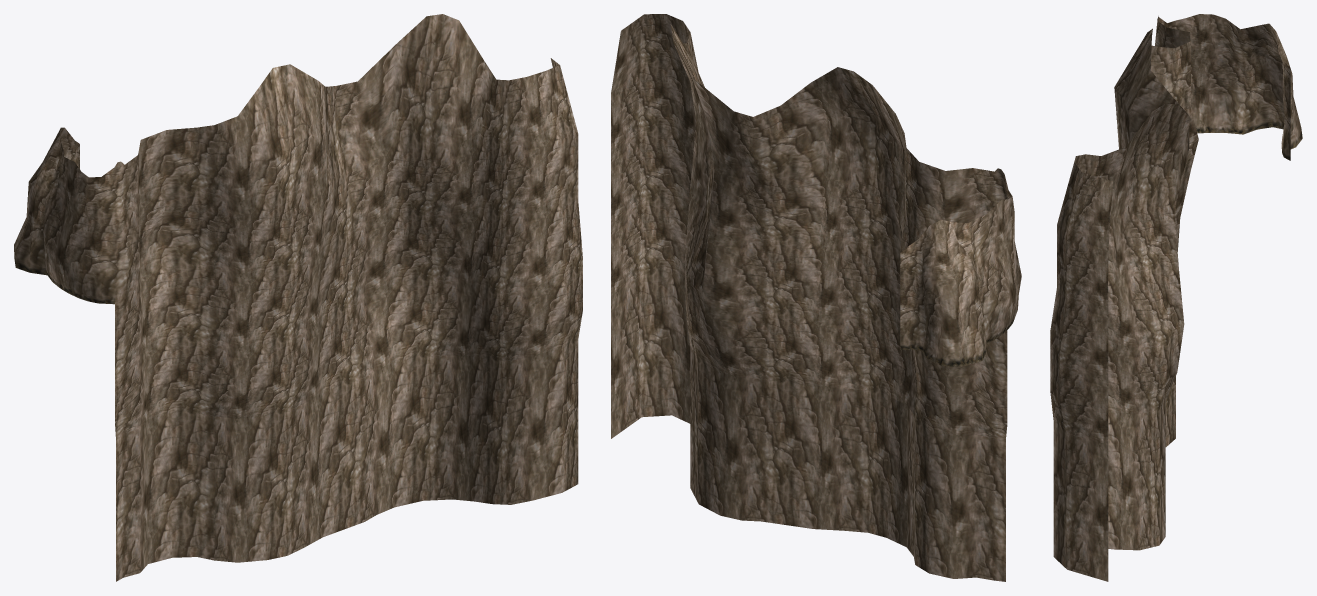
File: OVERHILL_A_01_MOUNTAIN_END_WALL.fbx
3 renders of one model, left to right at view 1: azimuth 30°, elevation 25°; view 2: azimuth 150°, elevation 25°; view 3: azimuth 270°, elevation 25°, orthographic. The views are drawn at different scales.
Parts seen in each view (by area): view 1: OVERHILL_A_01_MOUNTAIN_END_WALL; view 2: OVERHILL_A_01_MOUNTAIN_END_WALL; view 3: OVERHILL_A_01_MOUNTAIN_END_WALL.
Part boxes in pixels (<box>): OVERHILL_A_01_MOUNTAIN_END_WALL: <box>14,14,582,581</box>; OVERHILL_A_01_MOUNTAIN_END_WALL: <box>611,14,1021,581</box>; OVERHILL_A_01_MOUNTAIN_END_WALL: <box>1050,14,1302,581</box>.
Size of the model in its own units: 326858 by 326298 by 163516.
Materials: 2 (2 with a texture image).
